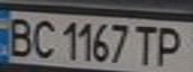1: (57, 18, 78, 61), (75, 19, 93, 62)
6: (90, 19, 112, 63)
7: (109, 20, 133, 65)
B: (0, 14, 39, 58)
C: (27, 16, 57, 60)
P: (151, 24, 190, 67)
T: (130, 21, 163, 66)
